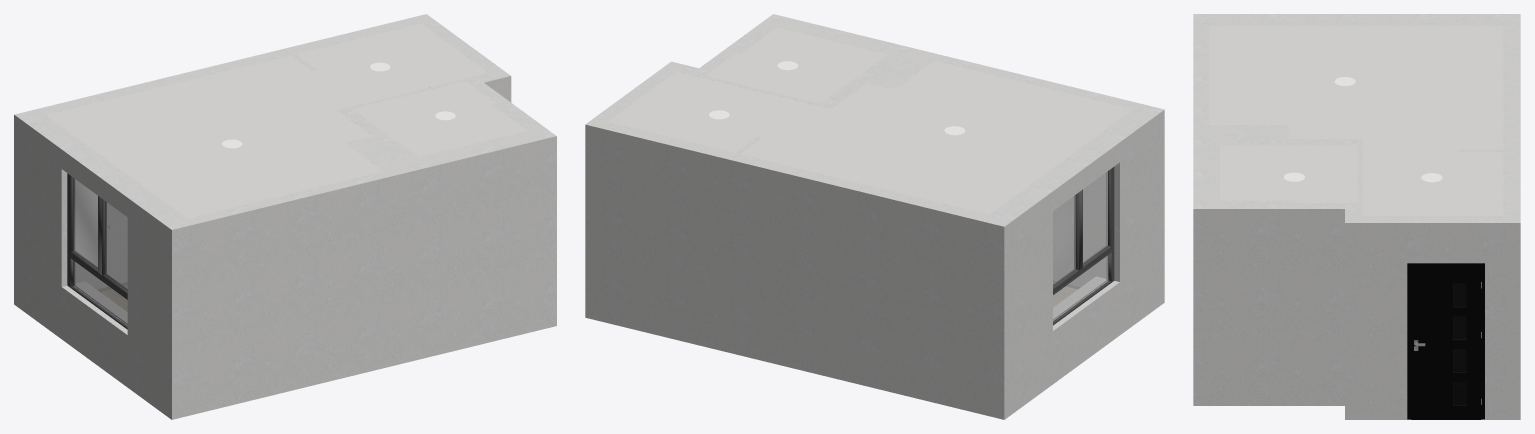
The model's file is apt-studroom-3.glb.
3 views of the same model, side by side, from view 1: azimuth 30°, elevation 25°; view 2: azimuth 150°, elevation 25°; view 3: azimuth 270°, elevation 25° (orthographic). The views are drawn at different scales.
Visible parts, largest first — view 1: Walls, Ceiling, B_2_4_3_Interior_Glass., B_2_4_1Exterior_Glass, B_2_4_4_Interior_Glass, B_2_4_2_Exterior_Glass., B_1_4_2_Interior_Glasss, B_1_4_1_Exterior_Glass, B_2_1_1_PVC_Window_Frame; view 2: Walls, Ceiling, B_2_4_4_Interior_Glass, B_2_4_2_Exterior_Glass., B_2_4_3_Interior_Glass., B_2_4_1Exterior_Glass, B_1_4_2_Interior_Glasss, B_1_4_1_Exterior_Glass, B_2_1_1_PVC_Window_Frame; view 3: Walls, Ceiling, Stainless Steel modern door.
Boxes of the visible parts, <box> form: Walls: <box>14,14,556,419</box>; Ceiling: <box>46,23,527,218</box>; B_2_4_3_Interior_Glass.: <box>74,178,97,268</box>; B_2_4_1Exterior_Glass: <box>74,179,97,268</box>; B_2_4_4_Interior_Glass: <box>105,201,127,289</box>; B_2_4_2_Exterior_Glass.: <box>105,202,127,289</box>; B_1_4_2_Interior_Glasss: <box>74,261,127,324</box>; B_1_4_1_Exterior_Glass: <box>74,261,127,324</box>; B_2_1_1_PVC_Window_Frame: <box>67,173,127,297</box>; Walls: <box>585,14,1164,419</box>; Ceiling: <box>608,27,1132,214</box>; B_2_4_4_Interior_Glass: <box>1083,171,1107,263</box>; B_2_4_2_Exterior_Glass.: <box>1083,172,1107,263</box>; B_2_4_3_Interior_Glass.: <box>1053,195,1075,285</box>; B_2_4_1Exterior_Glass: <box>1053,195,1075,284</box>; B_1_4_2_Interior_Glasss: <box>1053,255,1107,320</box>; B_1_4_1_Exterior_Glass: <box>1053,256,1107,320</box>; B_2_1_1_PVC_Window_Frame: <box>1053,167,1114,293</box>; Walls: <box>1193,14,1520,419</box>; Ceiling: <box>1209,26,1503,215</box>; Stainless Steel modern door: <box>1407,263,1484,419</box>.
Bounding box in the file's own units: 6.71 × 2.9 × 4.36.
Materials: 33 (11 with a texture image).
